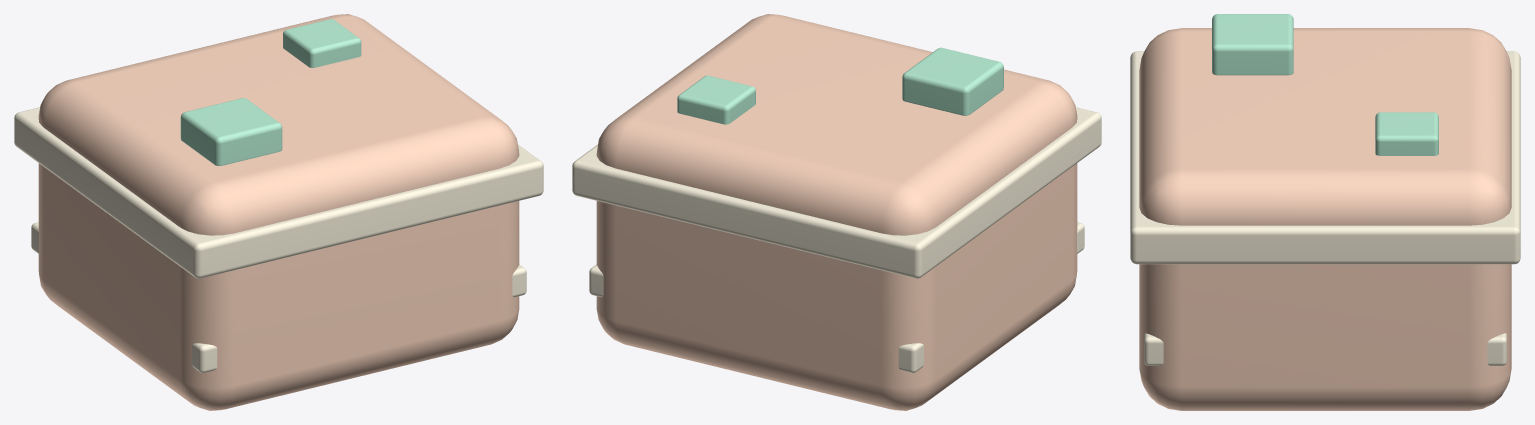
File: brick_candy_wafer.glb
3 renders of one model, left to right at view 1: azimuth 30°, elevation 25°; view 2: azimuth 150°, elevation 25°; view 3: azimuth 270°, elevation 25°, orthographic. The views are drawn at different scales.
Parts seen in each view (by area): view 1: WaferBody, CreamStripe, MintChip, MintChipSmall, CreamStripeLower; view 2: WaferBody, CreamStripe, MintChip, MintChipSmall, CreamStripeLower; view 3: WaferBody, CreamStripe, MintChip, MintChipSmall, CreamStripeLower.
Part boxes in pixels (x1=…): WaferBody: x1=38, y1=14, x2=519, y2=410; CreamStripe: x1=14, y1=107, x2=543, y2=278; MintChip: x1=180, y1=98, x2=282, y2=165; MintChipSmall: x1=283, y1=19, x2=361, y2=67; CreamStripeLower: x1=31, y1=222, x2=526, y2=372; WaferBody: x1=596, y1=14, x2=1077, y2=410; CreamStripe: x1=572, y1=107, x2=1101, y2=278; MintChip: x1=902, y1=47, x2=1003, y2=115; MintChipSmall: x1=677, y1=75, x2=755, y2=124; CreamStripeLower: x1=589, y1=222, x2=1084, y2=373; WaferBody: x1=1139, y1=28, x2=1511, y2=410; CreamStripe: x1=1130, y1=51, x2=1520, y2=264; MintChip: x1=1212, y1=14, x2=1293, y2=75; MintChipSmall: x1=1375, y1=112, x2=1438, y2=155; CreamStripeLower: x1=1144, y1=333, x2=1506, y2=365.
Size of the model in its own units: 0.94 by 0.65 by 0.86.
